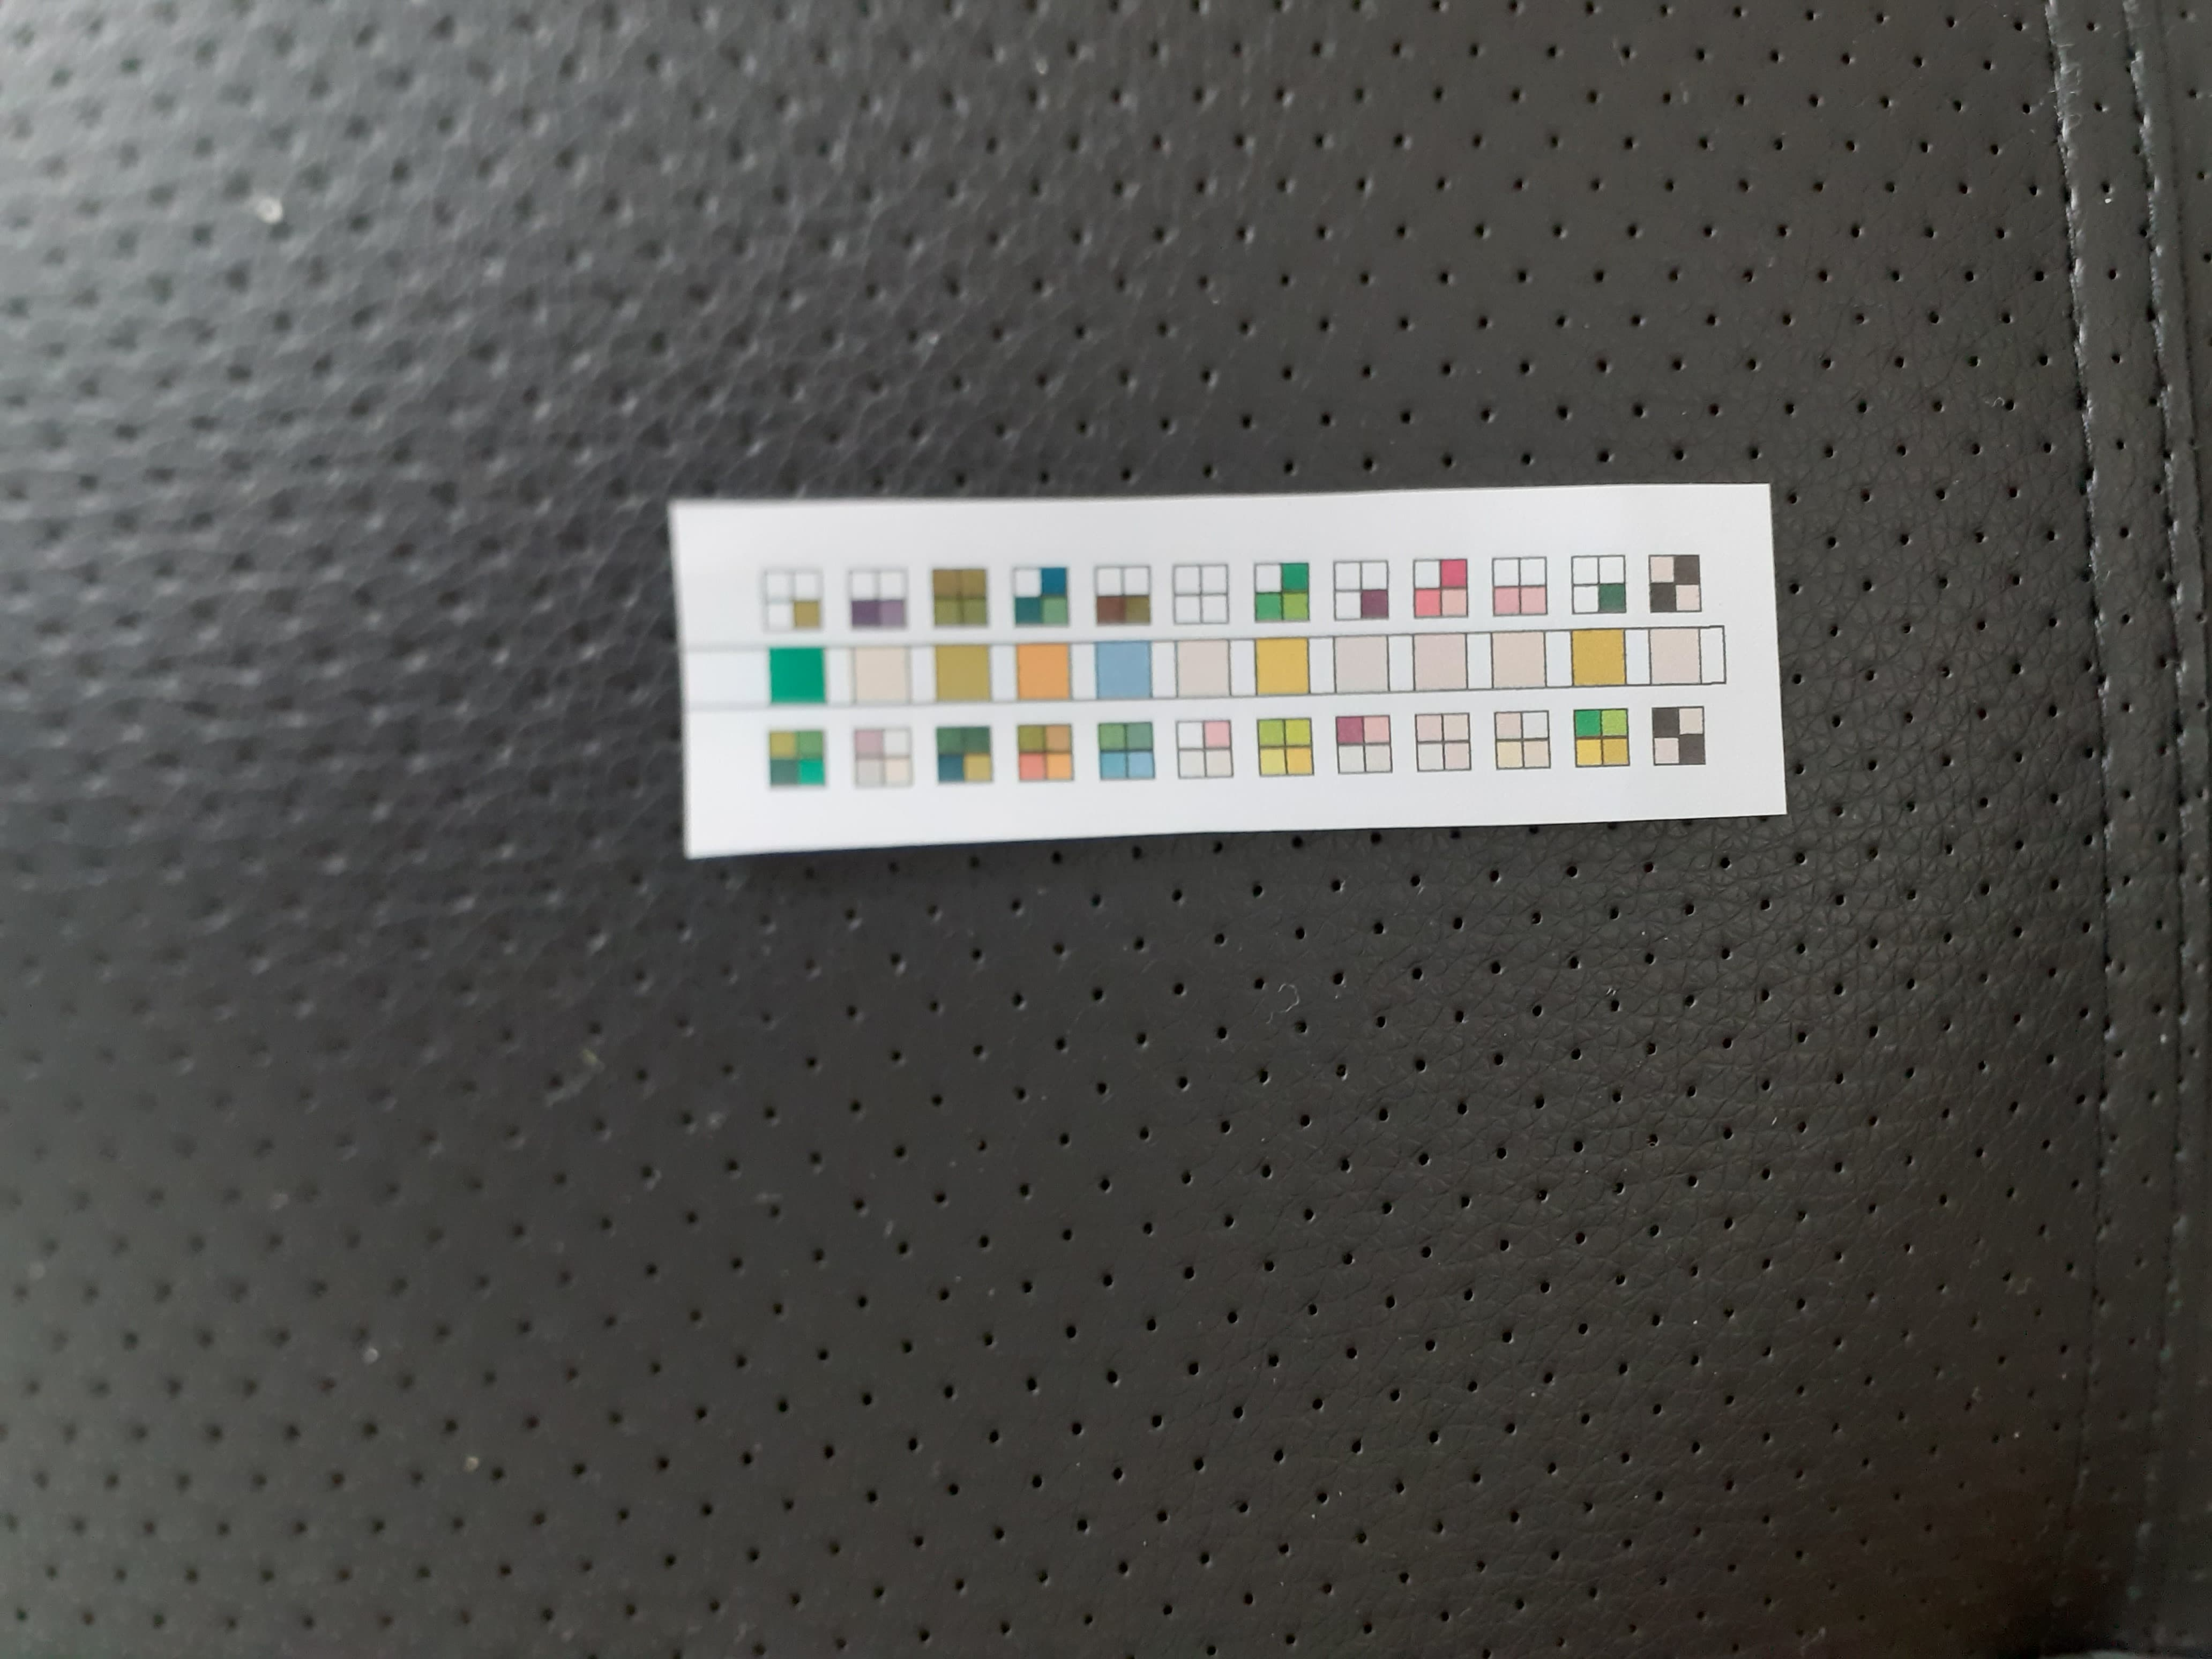tester: (667, 495, 1789, 831)
